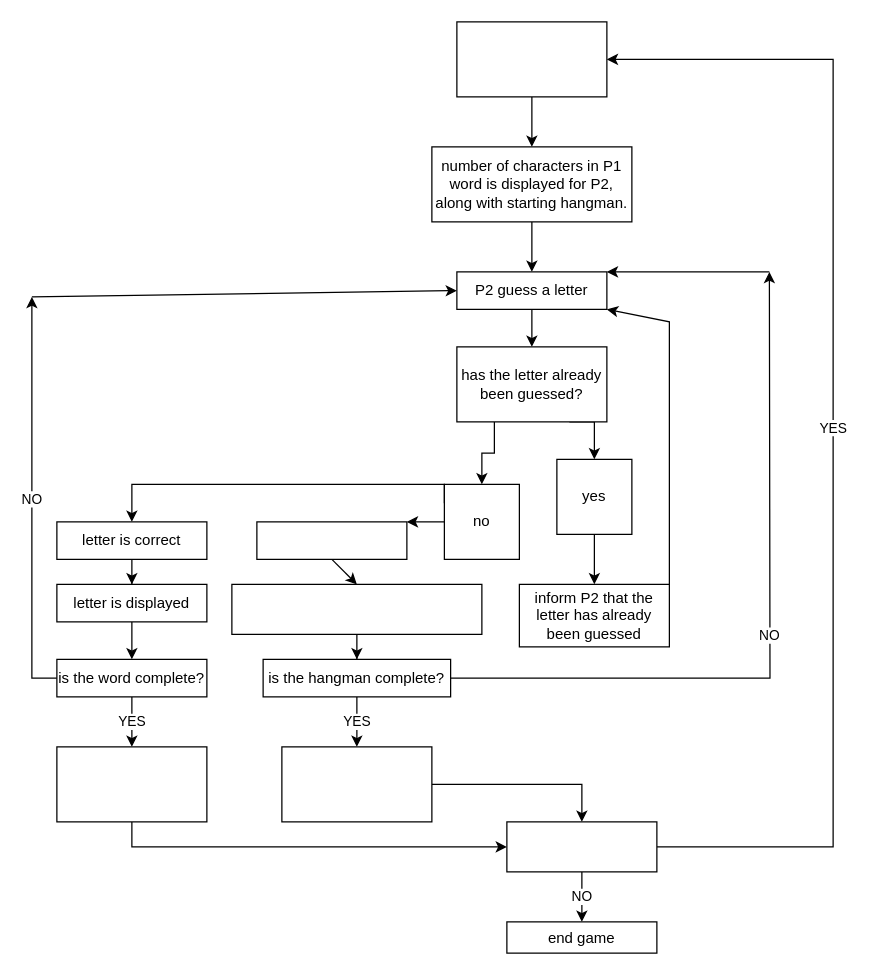
Image size: 869x975. Some labels were removed from this diagram. Here are the shapes that lost their labels. From the top down, the box of each, then its label:
(456, 21, 607, 97): Player 1 chooses a word, which is hidden from player 2.
(256, 521, 407, 559): letter is incorrect
(231, 583, 482, 634): a new section of the hangman is added and the letter displayed
(56, 746, 207, 822): display WELL DONE - YOU WIN
(281, 746, 432, 822): display GAME OVER - YOU LOSE
(506, 821, 657, 872): do you want to play again?
